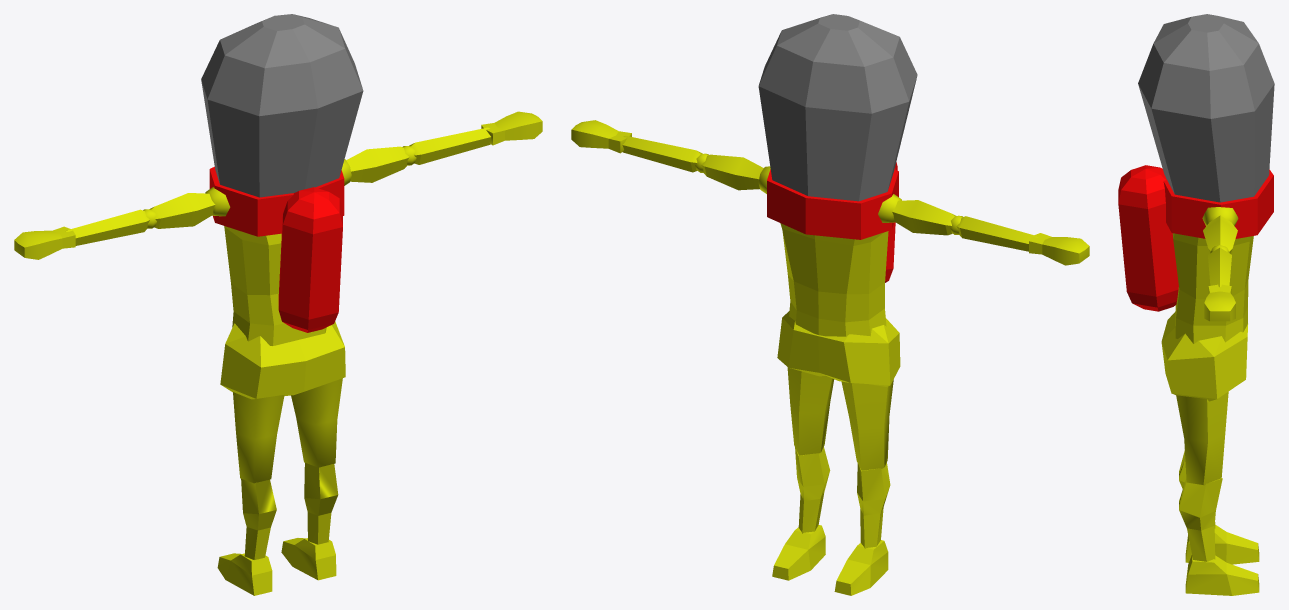
File: Chara_Alien.fbx
3 renders of one model, left to right at view 1: azimuth 30°, elevation 25°; view 2: azimuth 150°, elevation 25°; view 3: azimuth 270°, elevation 25°, orthographic. The views are drawn at different scales.
Parts seen in each view (by area): view 1: Cylinder002, Capsule001, Hips001, CHest001, Quadri005, Quadri004, Cylinder001, Mollet004, Mollet005, Foot004, Foot003, Muscle004 (+5 smaller); view 2: Cylinder002, CHest001, Hips001, Cylinder001, Quadri005, Quadri004, Mollet004, Mollet005, Foot004, Foot003, Muscle004, Muscle003 (+4 smaller); view 3: Cylinder002, Capsule001, CHest001, Hips001, Quadri004, Cylinder001, Mollet004, Foot003, Foot004, Hand004, Muscle003, avMuscle003 (+1 smaller).
Part boxes in pixels (x1,y1,x2,y2): Cylinder002: [201, 14, 363, 197]; Capsule001: [278, 187, 342, 332]; Hips001: [220, 321, 345, 399]; CHest001: [224, 226, 326, 345]; Quadri005: [233, 392, 284, 483]; Quadri004: [291, 378, 342, 467]; Cylinder001: [209, 167, 344, 236]; Mollet004: [304, 463, 338, 544]; Mollet005: [241, 479, 276, 559]; Foot004: [217, 553, 272, 595]; Foot003: [281, 538, 336, 580]; Muscle004: [149, 193, 215, 228]; Cylinder002: [758, 14, 917, 201]; CHest001: [780, 223, 888, 336]; Hips001: [777, 311, 900, 386]; Cylinder001: [767, 169, 898, 239]; Quadri005: [841, 379, 893, 470]; Quadri004: [787, 367, 834, 455]; Mollet004: [795, 447, 830, 533]; Mollet005: [857, 462, 890, 548]; Foot004: [834, 540, 888, 595]; Foot003: [772, 525, 825, 580]; Muscle004: [892, 200, 955, 235]; Muscle003: [701, 154, 763, 190]; Cylinder002: [1138, 14, 1274, 202]; Capsule001: [1118, 165, 1178, 311]; CHest001: [1172, 233, 1253, 343]; Hips001: [1161, 311, 1247, 401]; Quadri004: [1176, 391, 1228, 485]; Cylinder001: [1163, 169, 1273, 238]; Mollet004: [1179, 478, 1222, 561]; Foot003: [1185, 555, 1259, 595]; Foot004: [1185, 525, 1259, 564]; Hand004: [1204, 284, 1235, 321]; Muscle003: [1203, 215, 1237, 253]; avMuscle003: [1208, 247, 1231, 287].
Size of the model in its own units: 1.87 by 1.91 by 0.4927.
